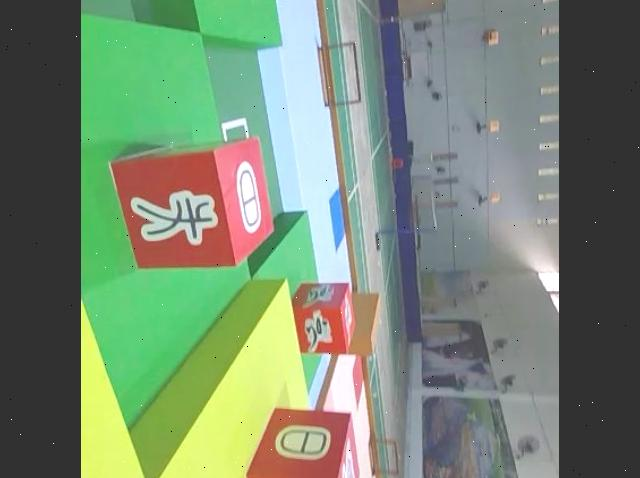R1: (291, 279, 361, 357)
R2 Fake: (107, 131, 277, 271), (244, 404, 365, 478)
